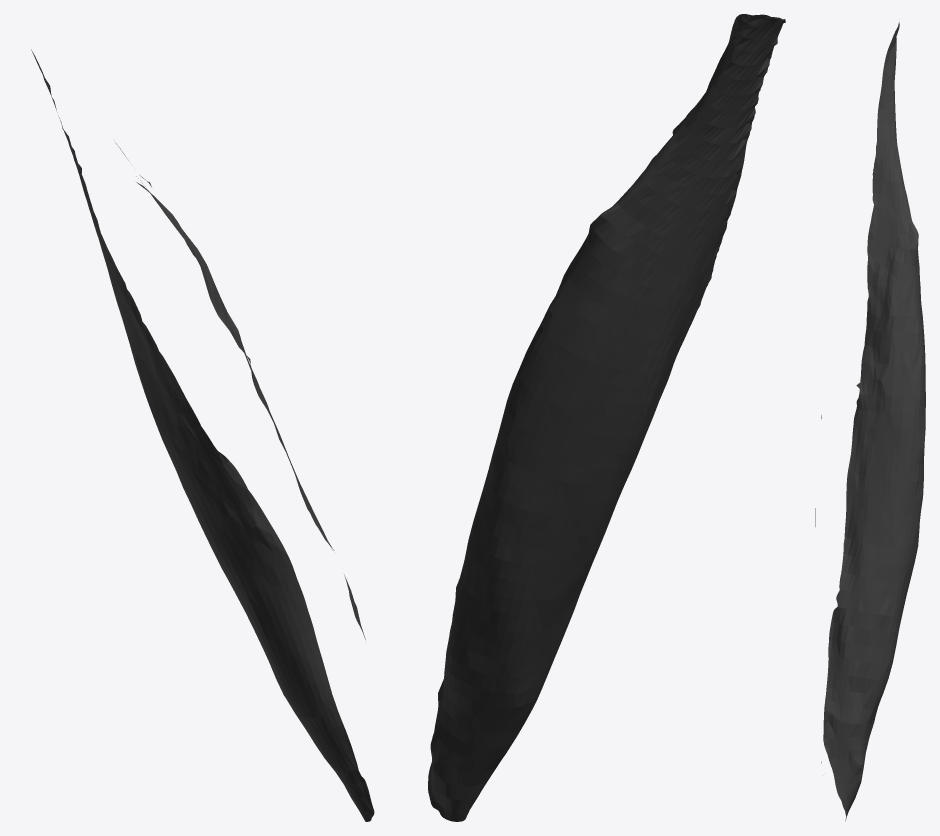
The model's file is Biceps_brachii.glb.
3 renders of one model, left to right at view 1: azimuth 30°, elevation 25°; view 2: azimuth 150°, elevation 25°; view 3: azimuth 270°, elevation 25°, orthographic. The views are drawn at different scales.
Parts seen in each view (by area): view 1: Biceps_brachii; view 2: Biceps_brachii; view 3: Biceps_brachii.
Part boxes in pixels (<box>): Biceps_brachii: <box>31,49,374,821</box>; Biceps_brachii: <box>428,14,785,821</box>; Biceps_brachii: <box>815,22,925,821</box>.
Size of the model in its own units: 0.1089 by 0.2487 by 0.037.
Materials: 1 (1 with a texture image).
